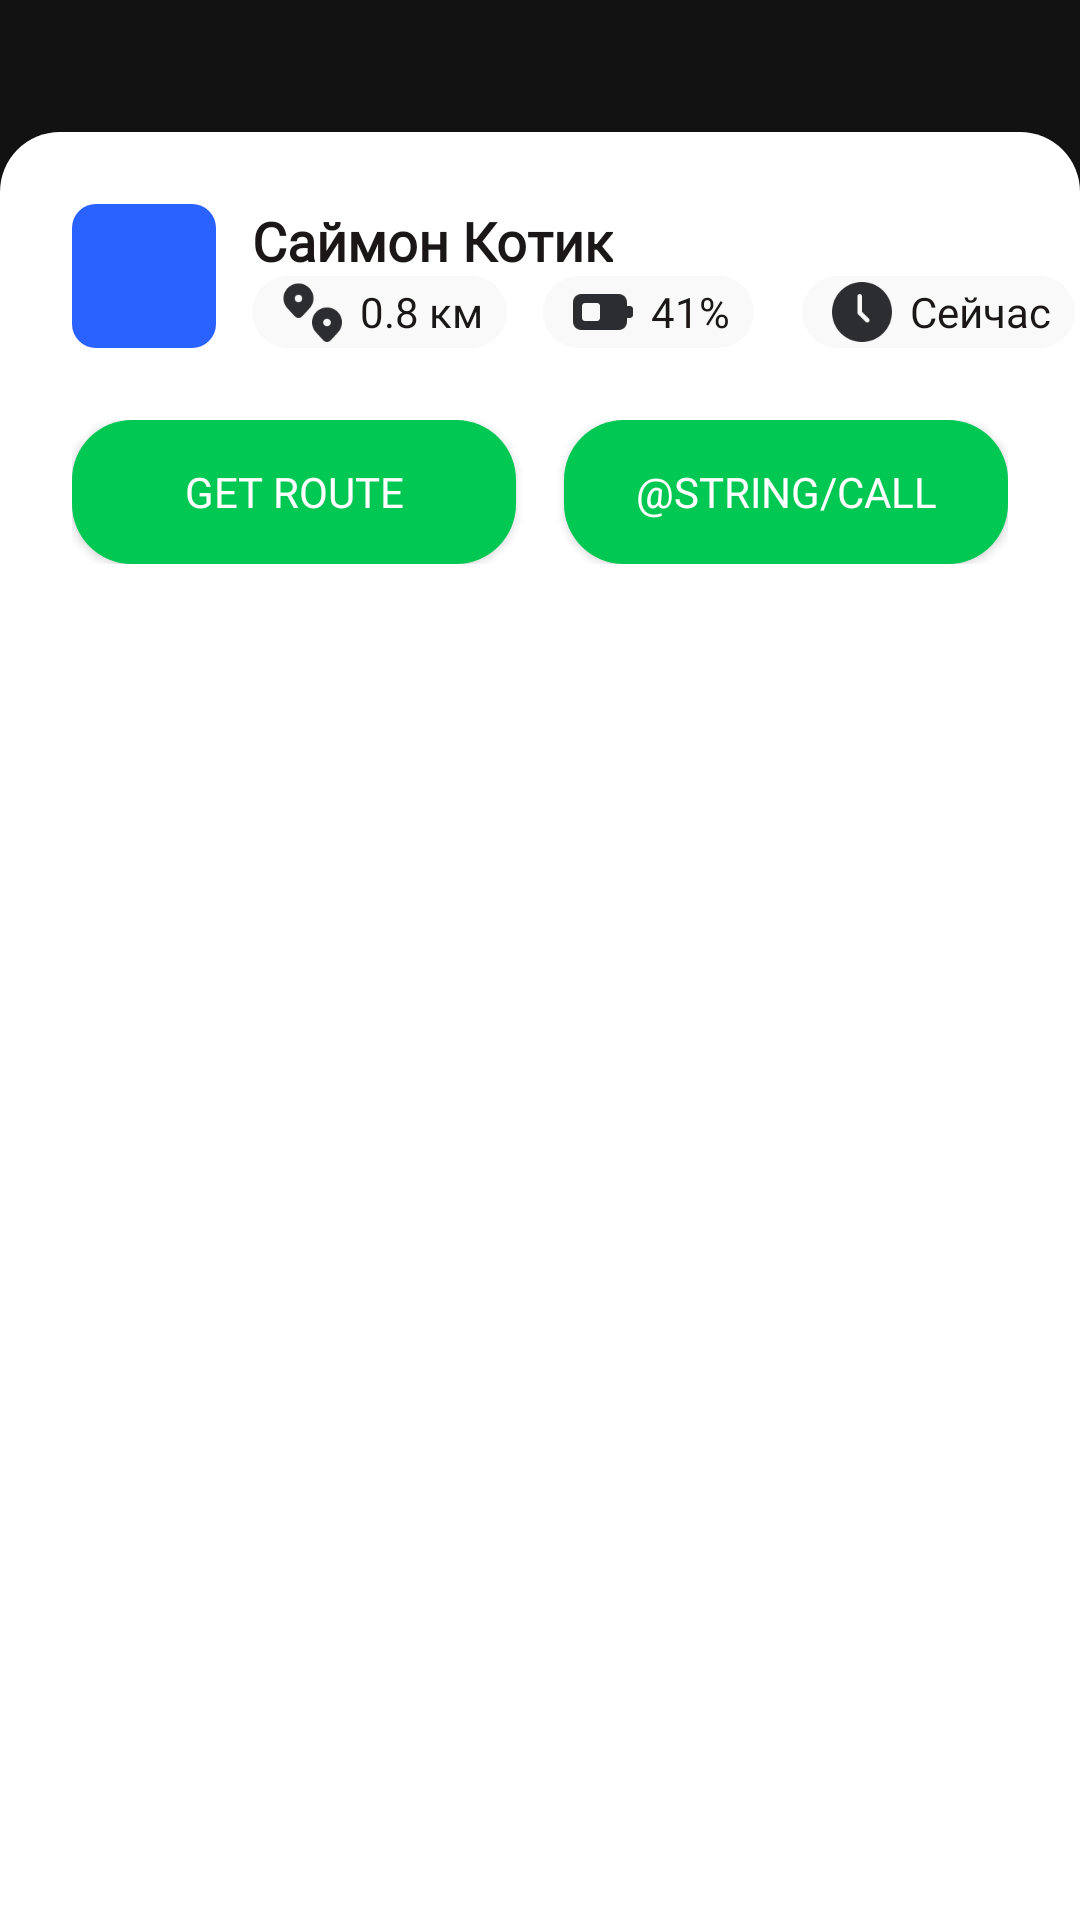

Screen size 1080px×1920px. Icon name, then its box in pixels as bbox(x1, y1, x2, y2):
battery: bbox(573, 294, 633, 330)
distance: bbox(283, 283, 342, 342)
time: bbox(832, 282, 892, 342)
